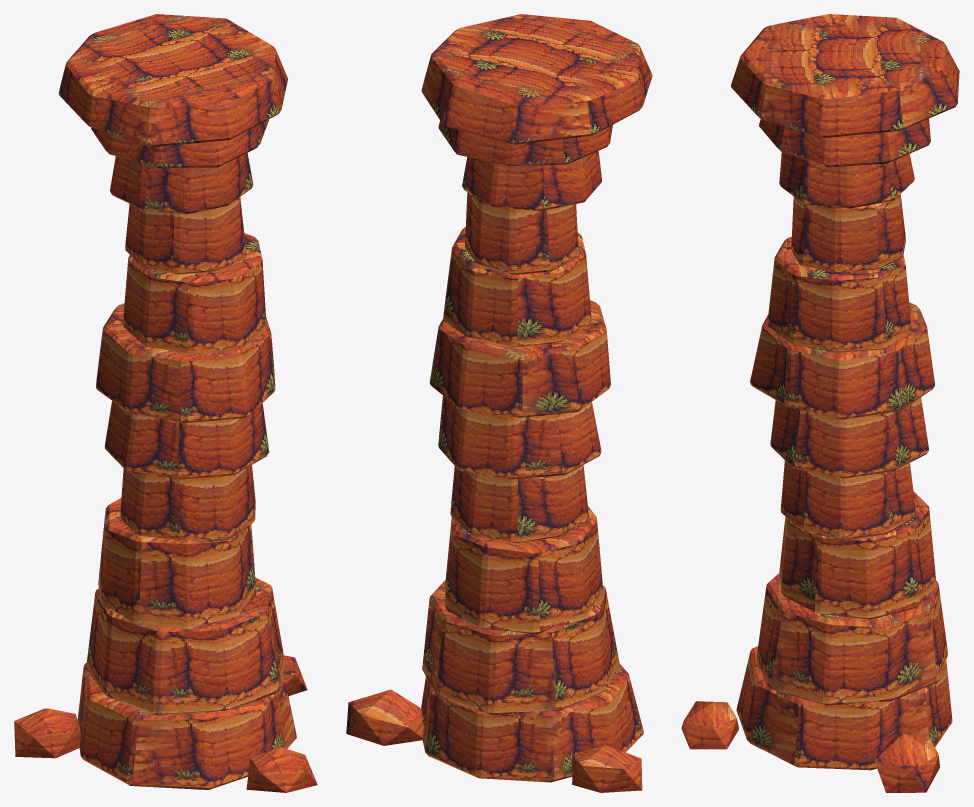
File: ruins_hoodoo.glb
3 renders of one model, left to right at view 1: azimuth 30°, elevation 25°; view 2: azimuth 150°, elevation 25°; view 3: azimuth 270°, elevation 25°, orthographic. The views are drawn at different scales.
Visible parts, largest first — view 1: Hoodoo; view 2: Hoodoo; view 3: Hoodoo.
Part boxes in pixels (x1,y1,x2,y2): Hoodoo: (14, 14, 317, 792); Hoodoo: (346, 14, 652, 792); Hoodoo: (681, 14, 959, 792).
Bounding box in the file's own units: 6.79 × 15.58 × 5.85.
1 material, 1 textured.
